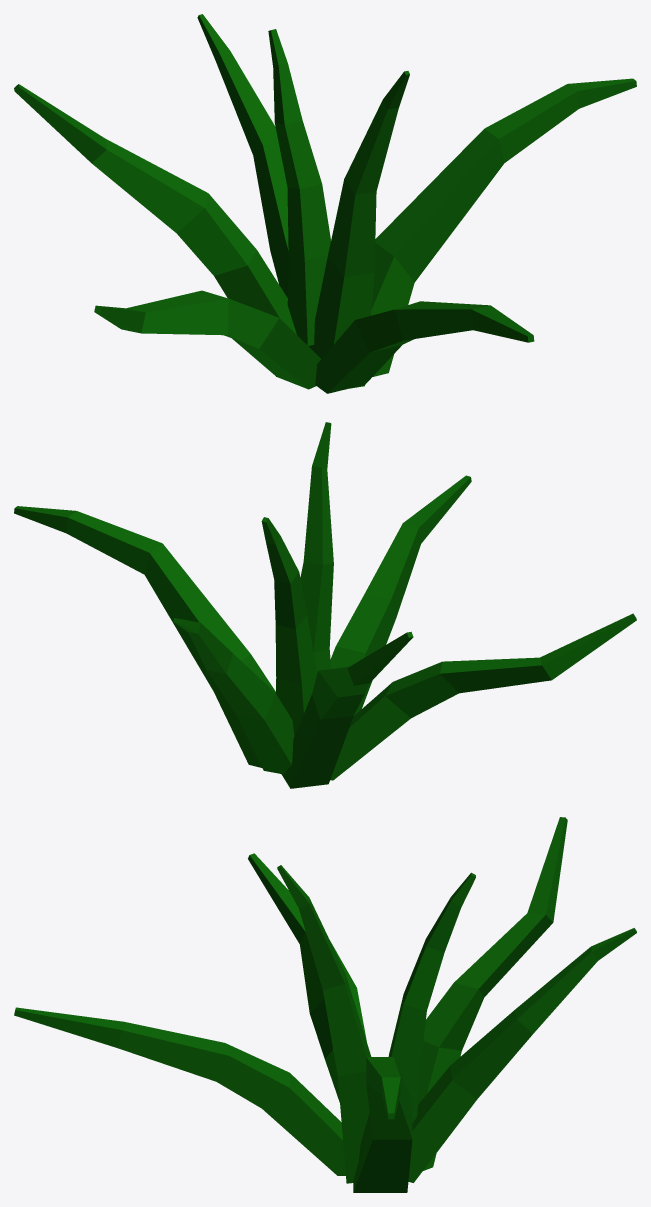
The model's file is Grass_05.fbx.
The picture shows the model from 3 angles, top to bottom: view 1: azimuth 30°, elevation 25°; view 2: azimuth 150°, elevation 25°; view 3: azimuth 270°, elevation 25°; orthographic projection. The views are drawn at different scales.
Visible parts, largest first — view 1: Grass_05; view 2: Grass_05; view 3: Grass_05.
Boxes of the visible parts, <box> form: Grass_05: <box>14,14,636,393</box>; Grass_05: <box>14,422,636,788</box>; Grass_05: <box>14,817,636,1192</box>.
Bounding box in the file's own units: 2.55 × 1.34 × 2.36.
Materials: 1 (1 with a texture image).
